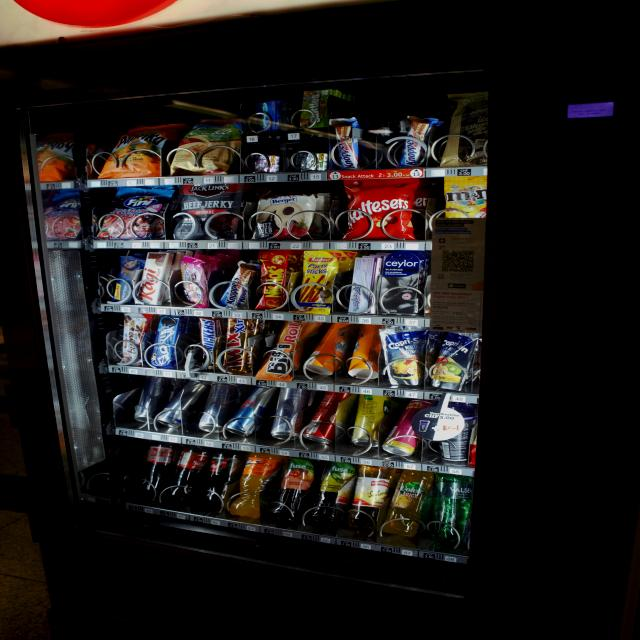airwaves_menthoneucalyptus_riegel_14_1_50173167: (254, 99, 283, 130)
berger_spitzbueb___: (255, 192, 316, 244)
bifi_roll__50__4251097402635: (261, 318, 302, 378)
bueno___43__4008400320328: (120, 312, 152, 368)
caferoyal_classicmacchiato__33__7617014164487: (438, 403, 474, 462)
caprisun_multivitamin__20__4000177605004: (378, 327, 434, 388), (425, 329, 476, 394)
coke__dose_33__54491472: (308, 389, 338, 438)
coke__flasche_50__54491472: (136, 437, 176, 503), (165, 449, 205, 503)
coke_zero_flasche_50__5449000131836: (197, 447, 240, 509)
fanta___50__40822938: (230, 452, 282, 517)
fini_galaxymix_packung_100_1_8410525150364: (98, 189, 160, 239)
fini_jellykisses_packung_80_1_8410525116704: (182, 258, 210, 303)
fuse_lemon__50__5449000235947: (308, 462, 360, 530)
fuse_lemon_dose_33__5449000235947: (350, 392, 386, 450)
fuse_peach__50__5449000236623: (274, 455, 317, 526)
jacklinks_beefjerkyorginal__25__4047751730219: (173, 183, 244, 240)
jlbrichard_gauffrechoko__90__5410495002079: (443, 90, 491, 155)
kagi___50__7610046000259: (138, 251, 171, 308)
knoppers_riegel____4035800488808: (328, 118, 368, 172), (399, 115, 436, 167), (218, 262, 251, 310)
lorenz_nicnacs__40__4018077798818: (255, 249, 289, 310)
malburner_partysticks__40__7610200279682: (302, 249, 337, 316)
maltesers___100__5000159023061: (342, 178, 419, 239)
oreo___66__84100733: (152, 315, 182, 367)
powerbar_proteinplusschoko__55__4029679520028: (112, 255, 141, 302)
ramseier_schorle__50__7610057012456: (350, 463, 396, 529)
redbull___33__90162909: (157, 378, 205, 426), (200, 380, 238, 432), (130, 377, 171, 421)
redbull_light__33__90162800: (225, 384, 274, 439), (228, 383, 276, 437)
skittles_sour_riegel_51_1_: (302, 89, 330, 126)
snickers___50__5000159461122: (197, 315, 223, 374)
stimorol_spearmint_riegel_14_1_: (292, 152, 326, 172)
stimorol_wildcherry_riegel_14_1_57060330: (249, 153, 279, 174)
tiki_himbeerbrause_dose_33_1_: (390, 399, 426, 458)
twix___50__5000159459228: (221, 316, 254, 375)
valser_classic__50__76404160: (433, 474, 475, 546)
volvic_pinapple__50__305764335648: (382, 470, 435, 541)
zweifel_graneochilli__100__7610095184009: (175, 117, 243, 177)
zweifel_paprika__90__7610095013002: (92, 123, 175, 180)
